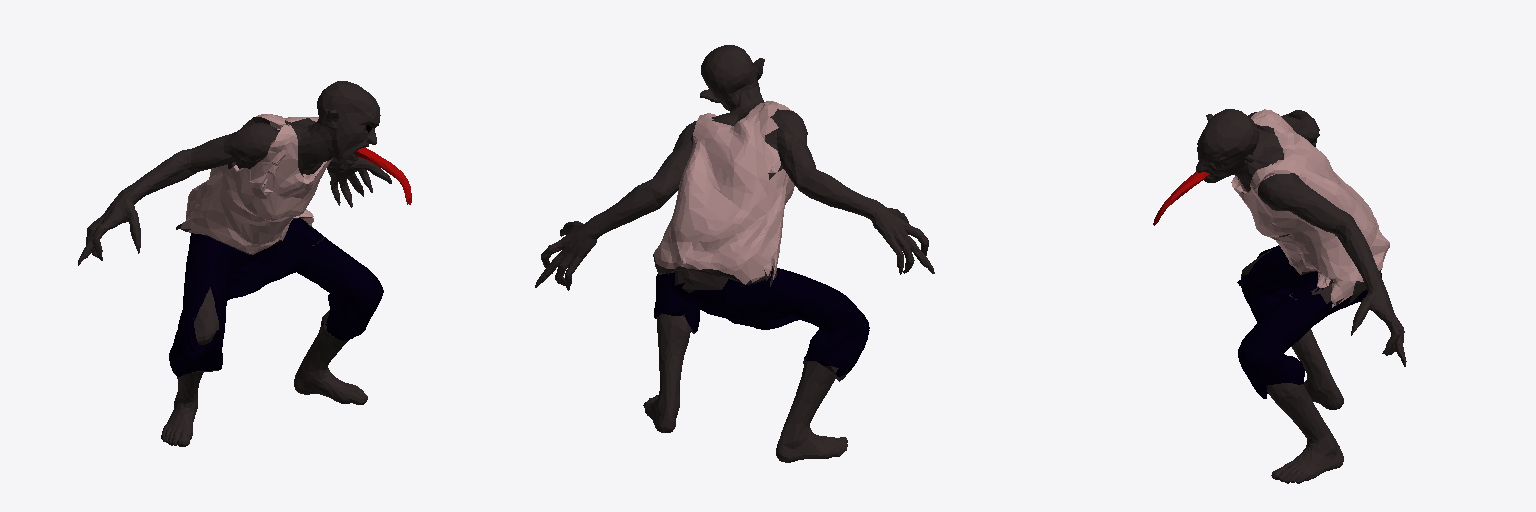
The model's file is ghoul.obj.
3 renders of one model, left to right at view 1: azimuth 30°, elevation 25°; view 2: azimuth 150°, elevation 25°; view 3: azimuth 270°, elevation 25°, orthographic.
Visible parts, largest first — view 1: ghoul; view 2: ghoul; view 3: ghoul.
Part boxes in pixels (bbox=[...]): ghoul: bbox=[78, 81, 411, 446]; ghoul: bbox=[535, 45, 934, 462]; ghoul: bbox=[1153, 109, 1406, 483].
Size of the model in its own units: 4.23 by 4.1 by 2.69.